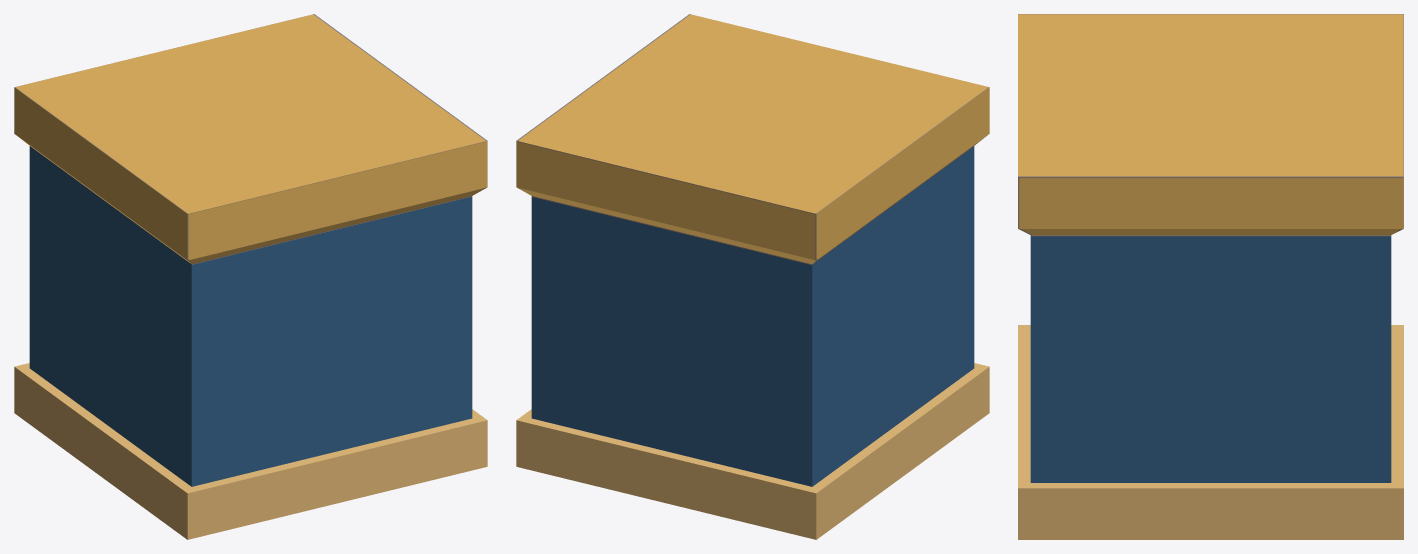
File: counter.fbx
3 views of the same model, side by side, from view 1: azimuth 30°, elevation 25°; view 2: azimuth 150°, elevation 25°; view 3: azimuth 270°, elevation 25° (orthographic). The views are drawn at different scales.
Parts seen in each view (by area): view 1: counter; view 2: counter; view 3: counter.
Boxes of the visible parts, x1=… form: counter: x1=14, y1=14, x2=487, y2=539; counter: x1=516, y1=14, x2=989, y2=539; counter: x1=1018, y1=14, x2=1403, y2=539.
Size of the model in its own units: 1.98 by 2.06 by 1.98.
